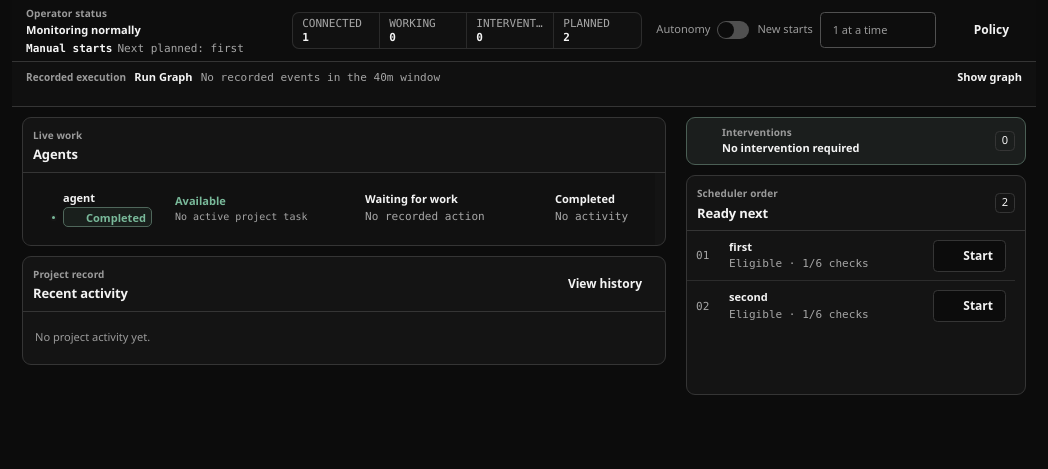
it: FloorSurface › collapses empty execution and intervention states while prioritizing the scheduler queue
Expected: the element with class "wj-floor-clear-strip" is shown, x1=686 y1=117 x2=1026 y2=165
Expected: the element with class "wj-floor-activity" is shown, x1=22 y1=256 x2=666 y2=365
Click the button "Run Graph": click(76, 77) x1=12 y1=62 x2=1036 y2=106
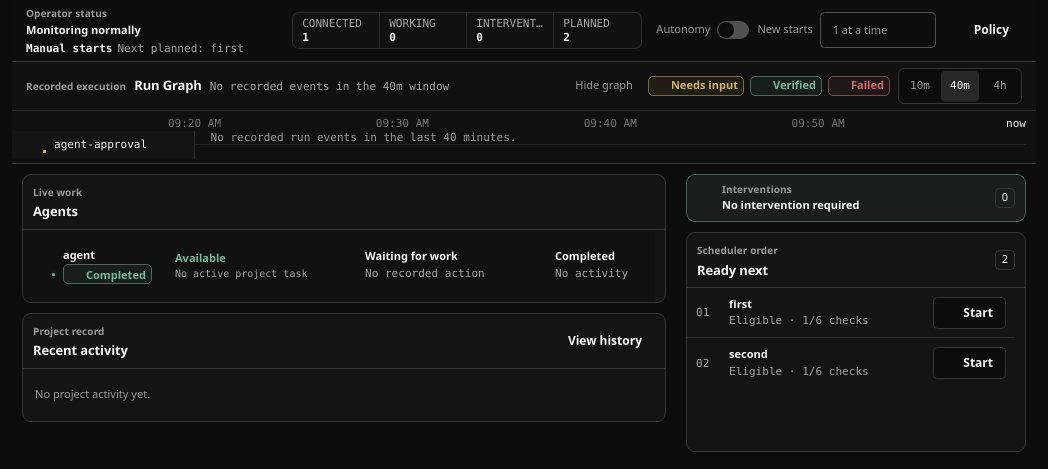
Expected: the heading "Run Graph" is shown, x1=134 y1=76 x2=202 y2=96
Result: the button "Hide graph" is shown at x1=568 y1=71 x2=640 y2=101
